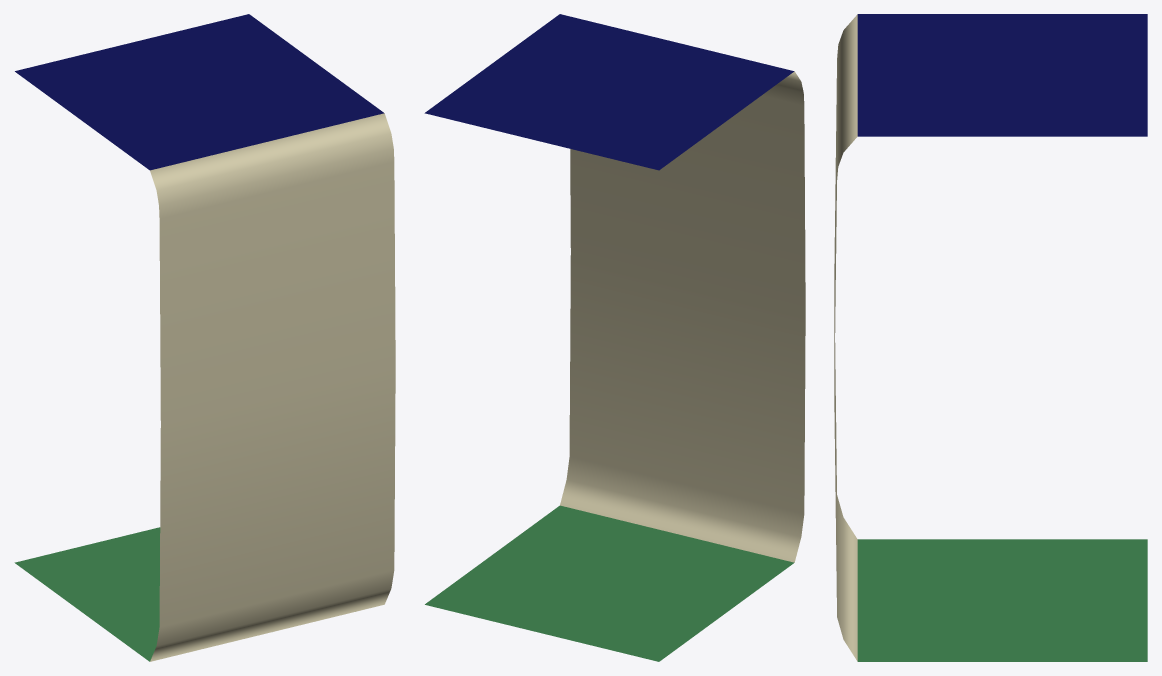
The model's file is ModuleSC_B_side_02.FBX.
The picture shows the model from 3 angles, left to right: view 1: azimuth 30°, elevation 25°; view 2: azimuth 150°, elevation 25°; view 3: azimuth 270°, elevation 25°; orthographic projection. The views are drawn at different scales.
Visible parts, largest first — view 1: ModuleSCs_B_wall_06, ModuleSCs_B_roof_06, ModuleSCs_B_floor_05; view 2: ModuleSCs_B_wall_06, ModuleSCs_B_floor_05, ModuleSCs_B_roof_06; view 3: ModuleSCs_B_floor_05, ModuleSCs_B_roof_06, ModuleSCs_B_wall_06.
Part boxes in pixels (x1,y1,x2,y2): ModuleSCs_B_wall_06: [150, 113, 395, 661]; ModuleSCs_B_roof_06: [15, 14, 384, 170]; ModuleSCs_B_floor_05: [14, 527, 160, 661]; ModuleSCs_B_wall_06: [560, 71, 805, 562]; ModuleSCs_B_floor_05: [425, 505, 794, 661]; ModuleSCs_B_roof_06: [424, 14, 794, 170]; ModuleSCs_B_floor_05: [857, 539, 1147, 661]; ModuleSCs_B_roof_06: [857, 14, 1147, 136]; ModuleSCs_B_wall_06: [834, 14, 857, 661].
Bounding box in the file's own units: 39.37 × 78.74 × 42.55.
